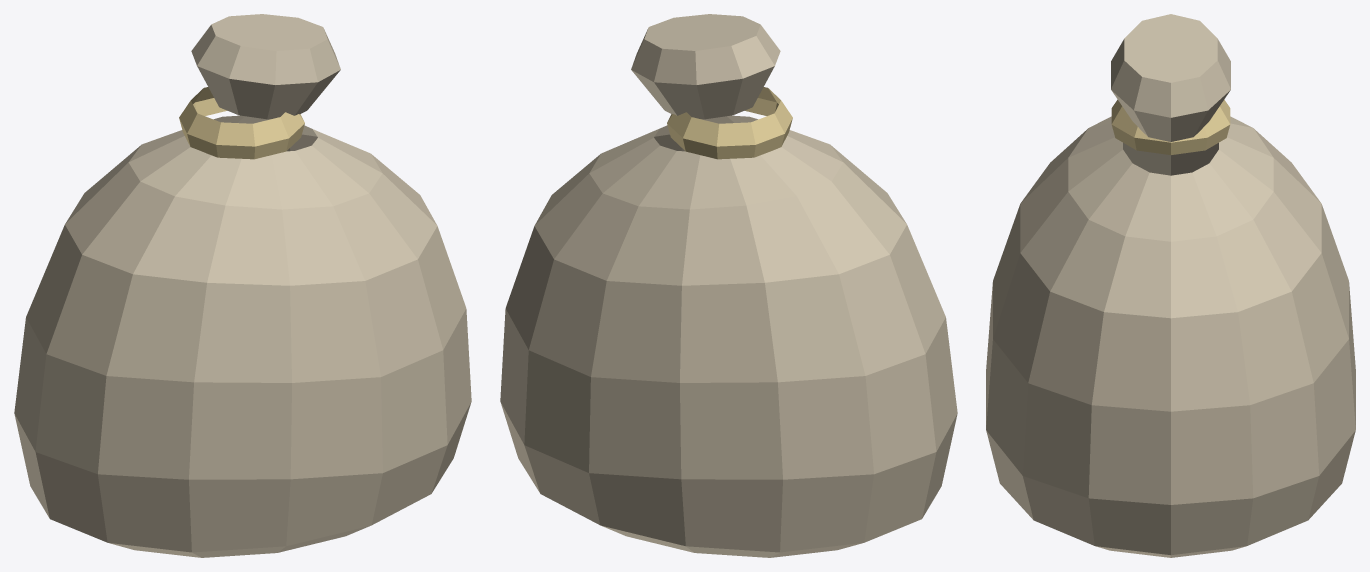
The model's file is prop-sack-tied.fbx.
3 views of the same model, side by side, from view 1: azimuth 30°, elevation 25°; view 2: azimuth 150°, elevation 25°; view 3: azimuth 270°, elevation 25° (orthographic).
Visible parts, largest first — view 1: prop-sack-tied; view 2: prop-sack-tied; view 3: prop-sack-tied.
Part boxes in pixels (x1=…): prop-sack-tied: x1=14, y1=14, x2=471, y2=557; prop-sack-tied: x1=500, y1=14, x2=957, y2=557; prop-sack-tied: x1=986, y1=14, x2=1355, y2=557.
Bounding box in the file's own units: 0.6048 × 0.6468 × 0.4738.
